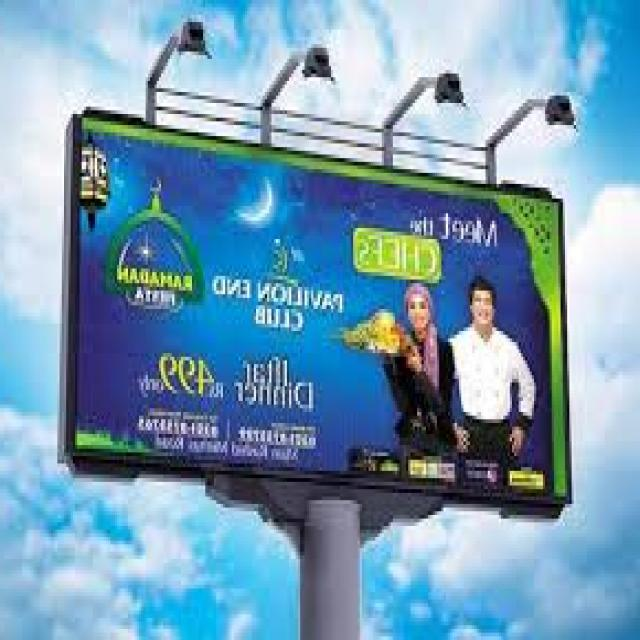Werbetafel frei: (67, 126, 575, 482)
